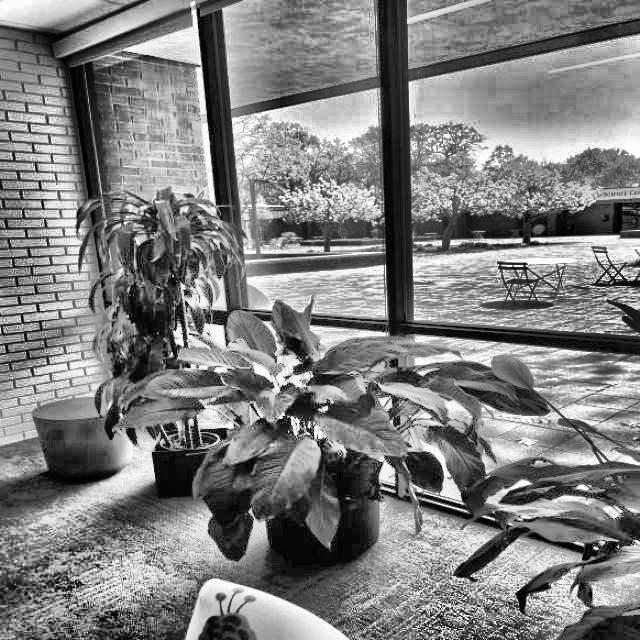plants: (165, 295, 458, 561), (89, 185, 238, 462), (543, 390, 640, 640)
